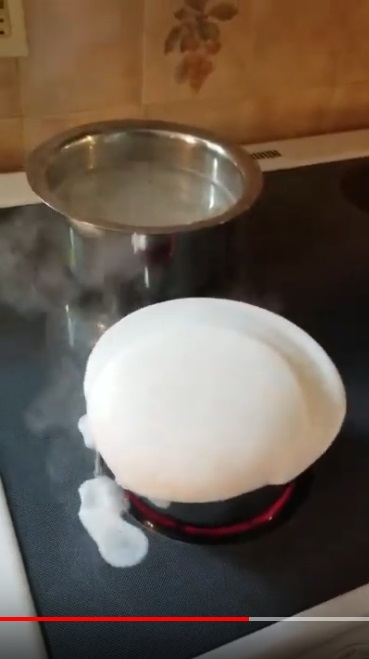Boiled: (62, 286, 348, 582)
